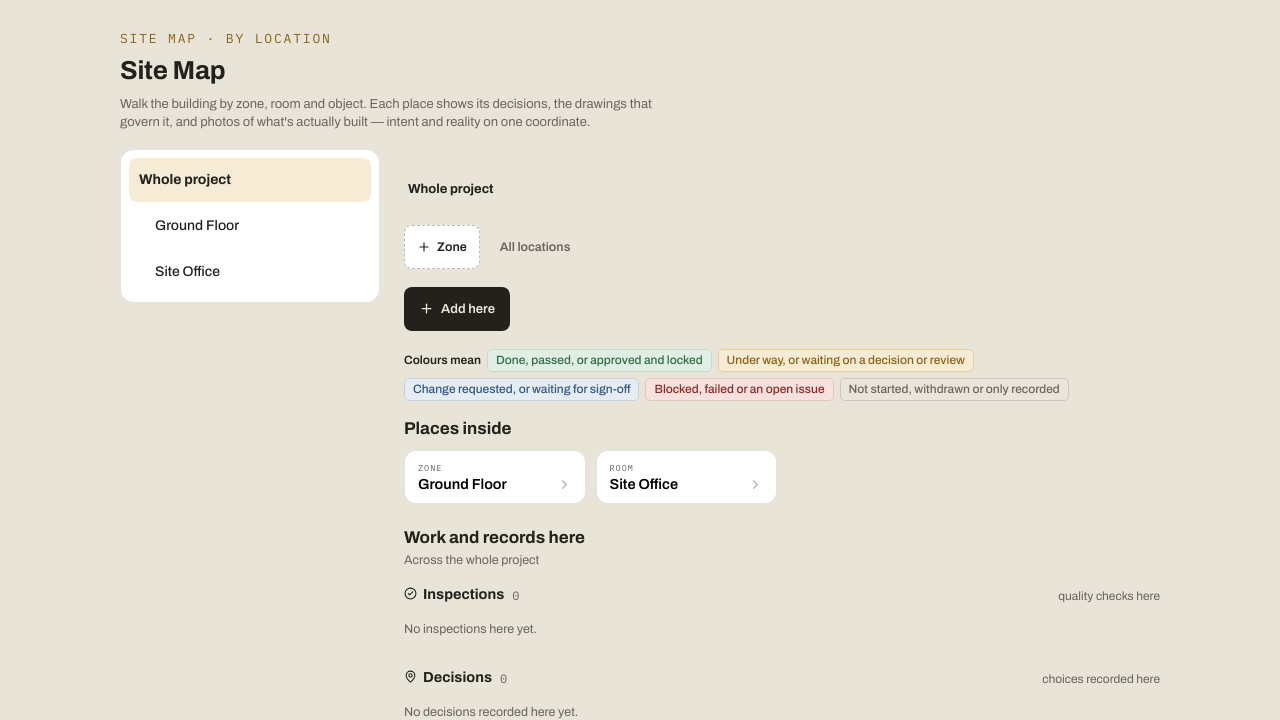
Test: the Site Map can create at the place it is showing › the chosen form inherits the selected place
The image size is (1280, 720).
Click the button with test id "place-node-gf": (495,477) [404,450,586,504]
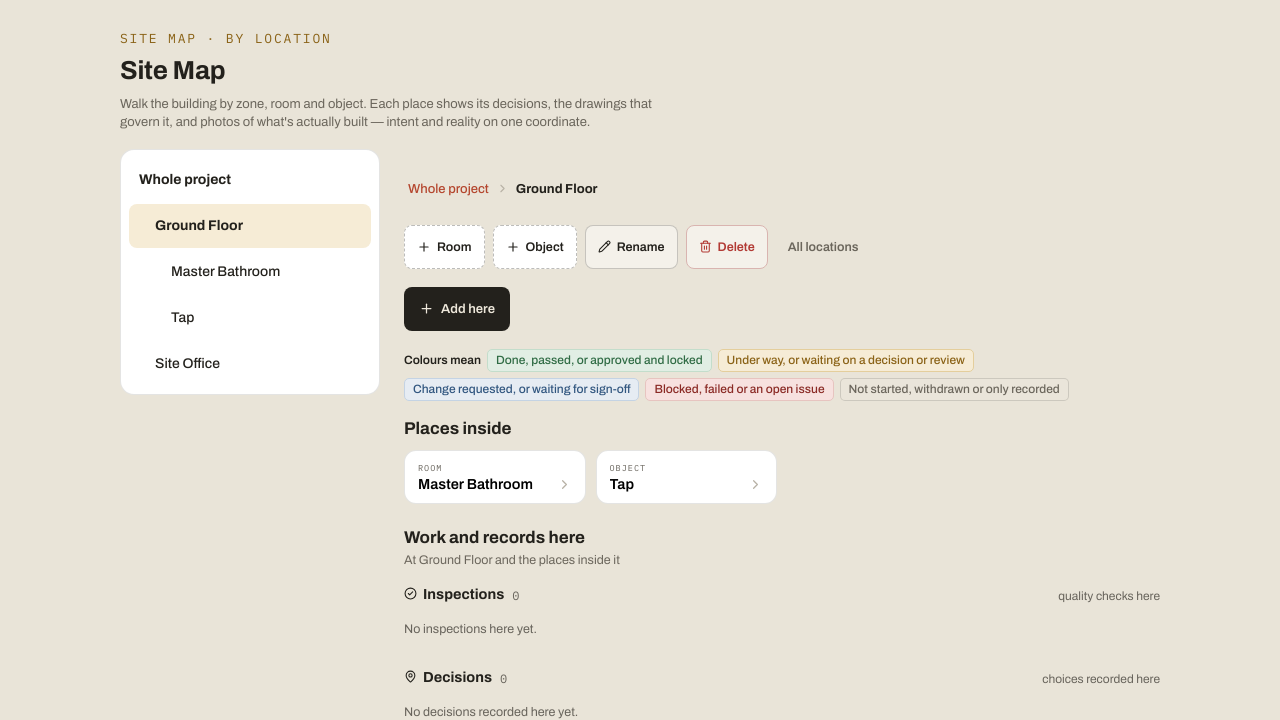
Click the button with test id "place-node-bath": (495,477) [404,450,586,504]
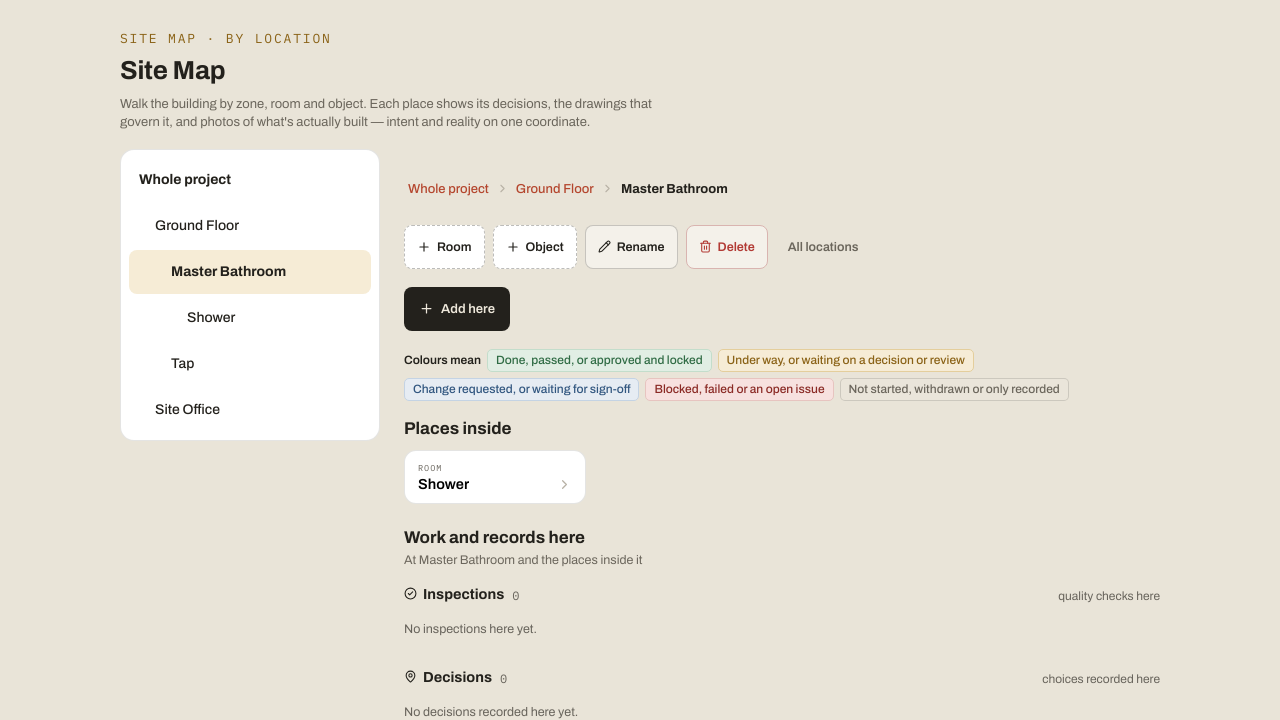
Click the button with test id "place-add": (457,309) [404,287,510,331]
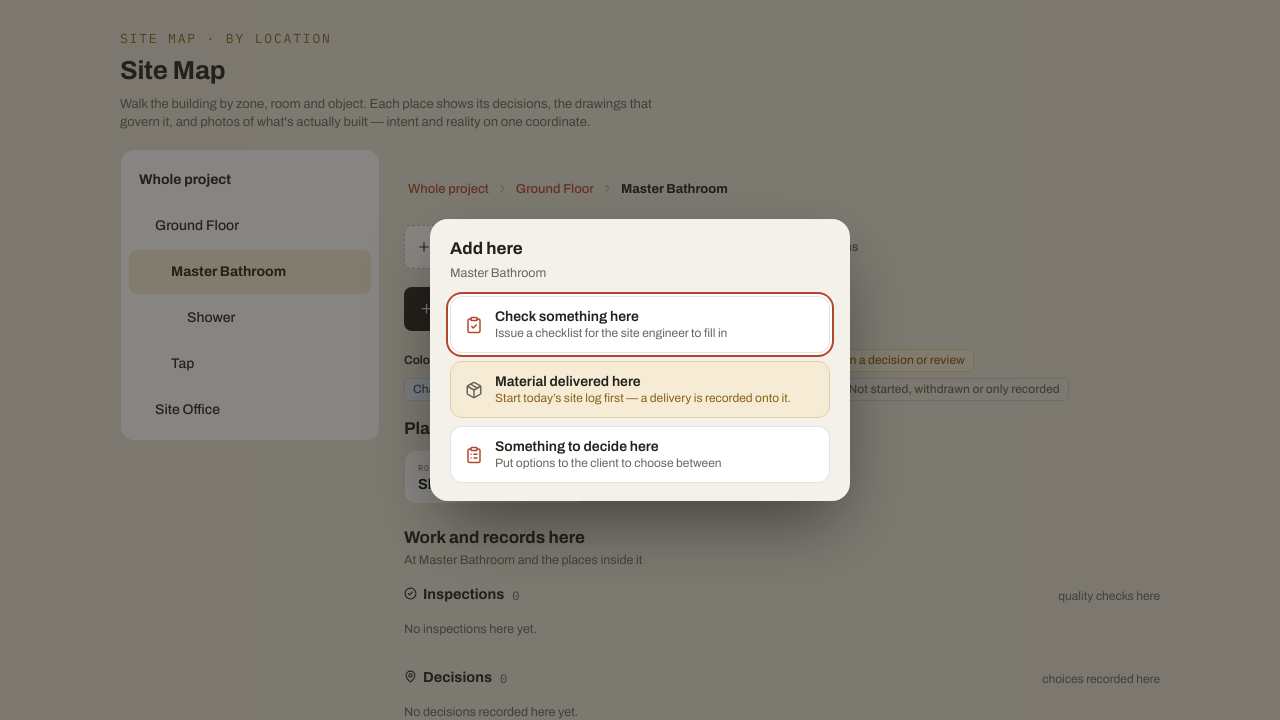
Click the button with test id "create-inspection": (640,325) [450,296,830,353]
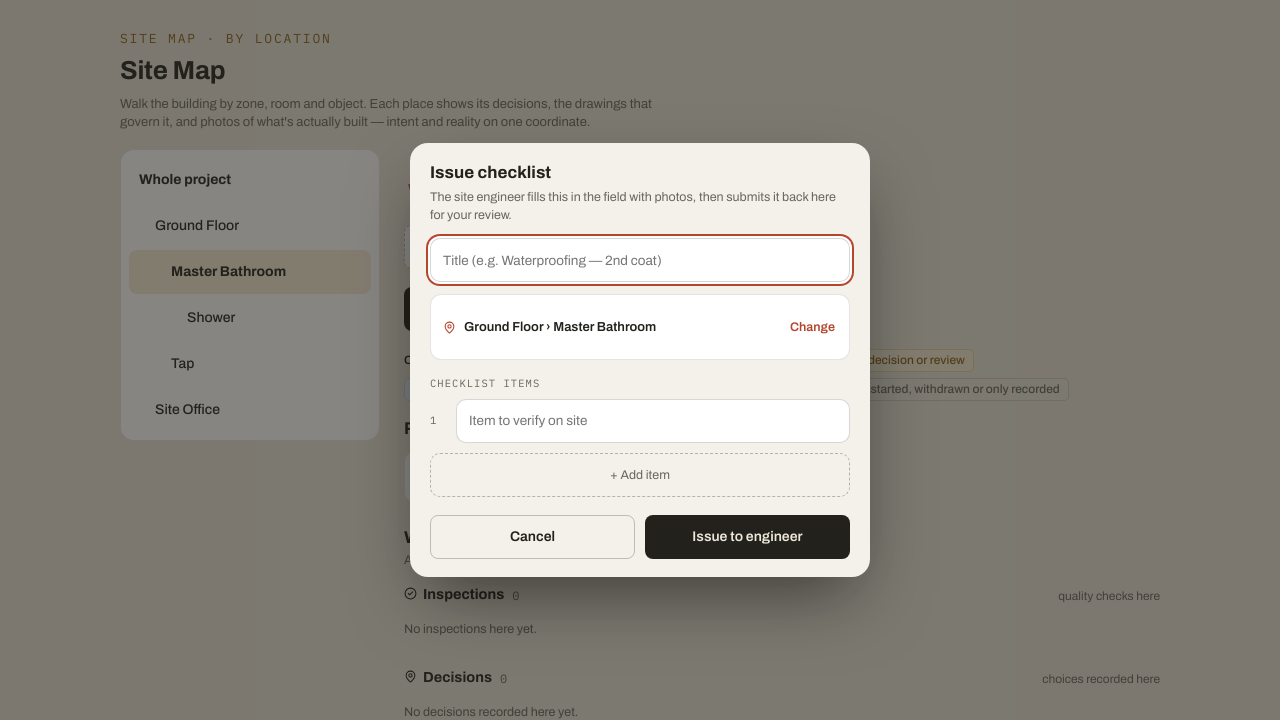
Expected: the text with test id "chk-place-trail" reads "Ground Floor › Master Bathroom", [464,320,656,334]
